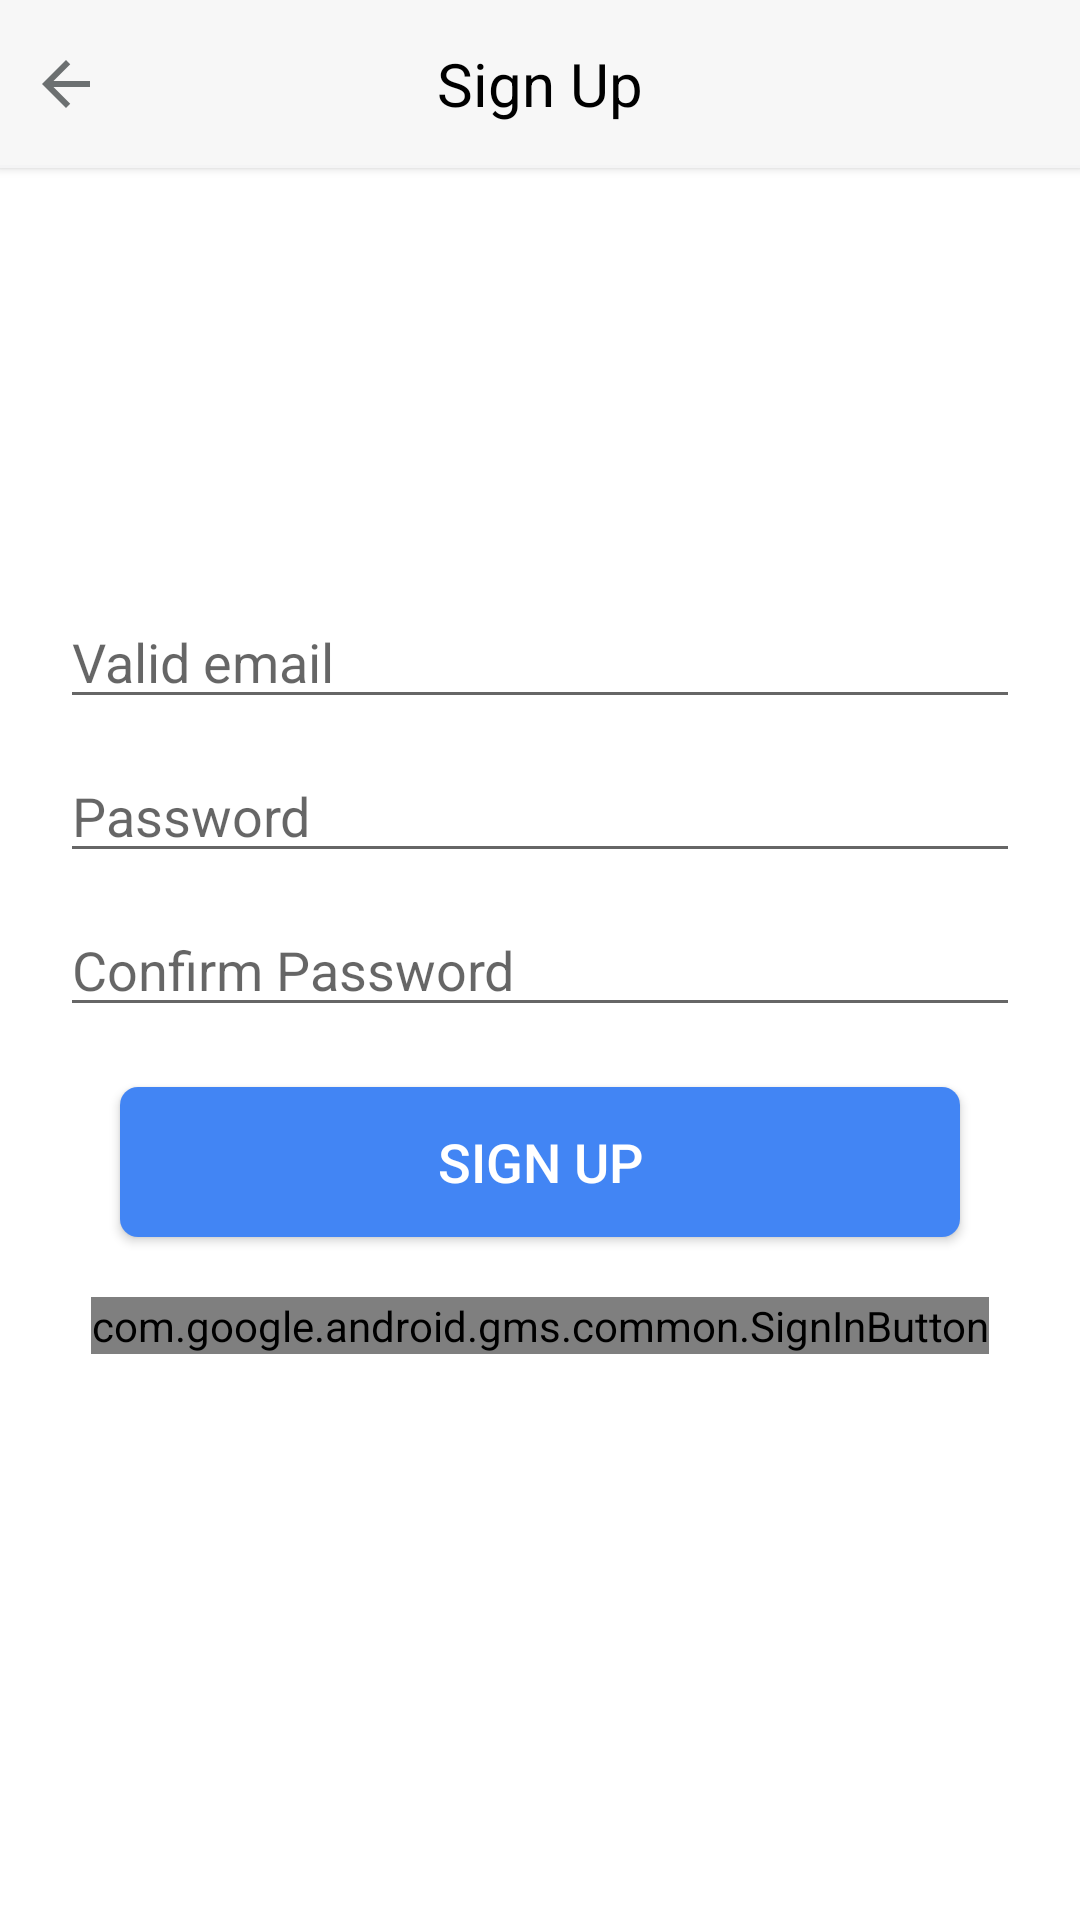

Where icons sit on this 1080×1920 app screen, as (x1, y1, x2, y2):
arrow back: (42, 60, 90, 108)
